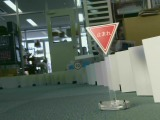stop: (85, 21, 120, 55)
